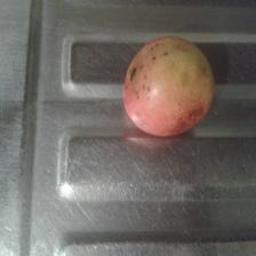Mango Semifresh: (114, 27, 227, 159)
